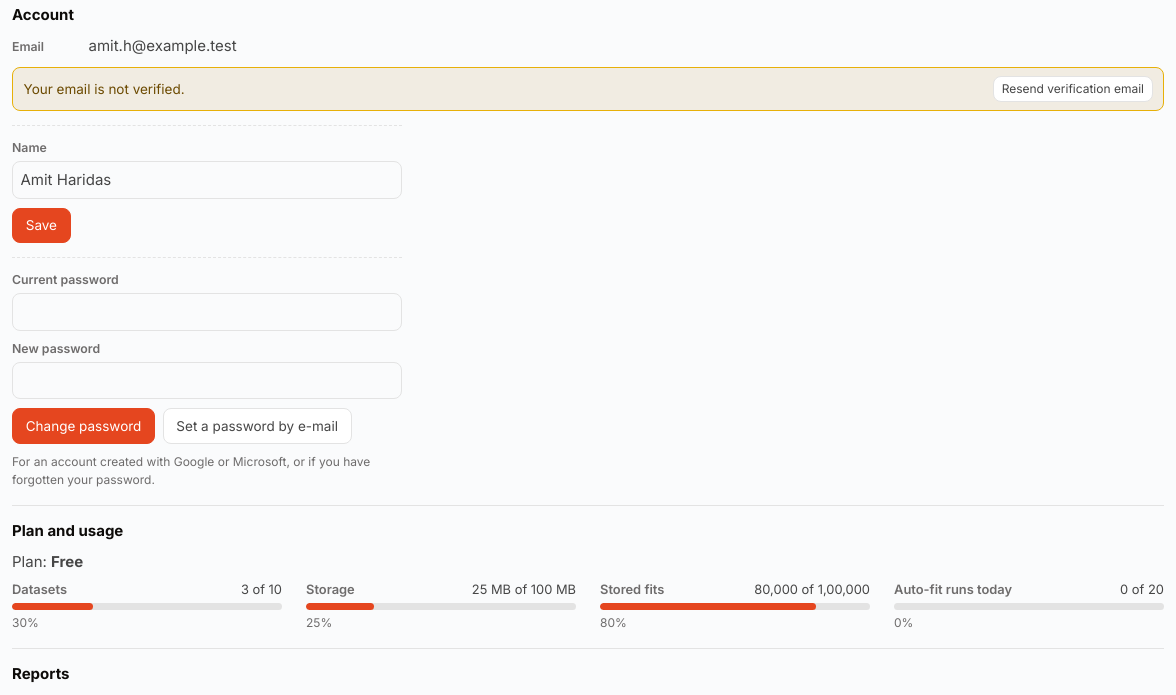
Test: ProfilePage — Account › offers to resend the verification email while the address is unverified
Expected: the heading "Account" is shown, [12,5,74,24]
Click the button "Resend verification email" at coordinates (1073, 89), box [993,76,1152,102]
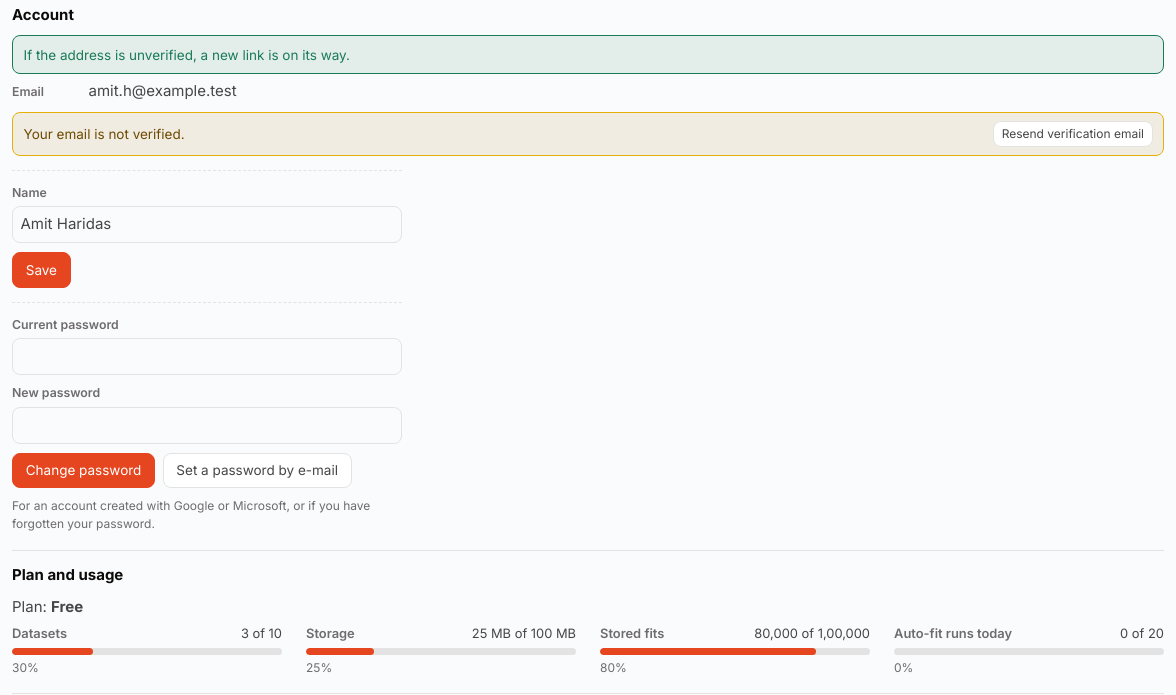
Expected: the message reads "If the address is unverified, a new link is on its way.", [24,46,350,62]
